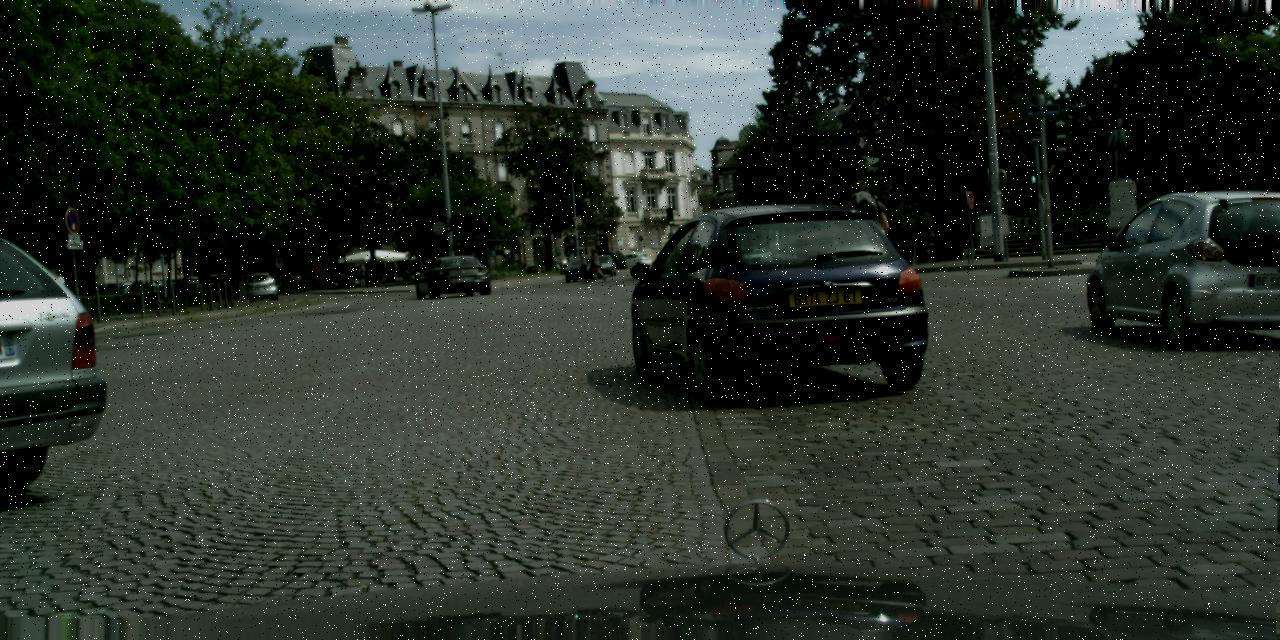ped: (848, 179, 891, 285), (576, 248, 590, 283), (588, 248, 600, 280), (590, 249, 602, 280), (356, 263, 366, 288), (349, 269, 356, 287), (294, 272, 300, 290), (289, 272, 294, 288)
